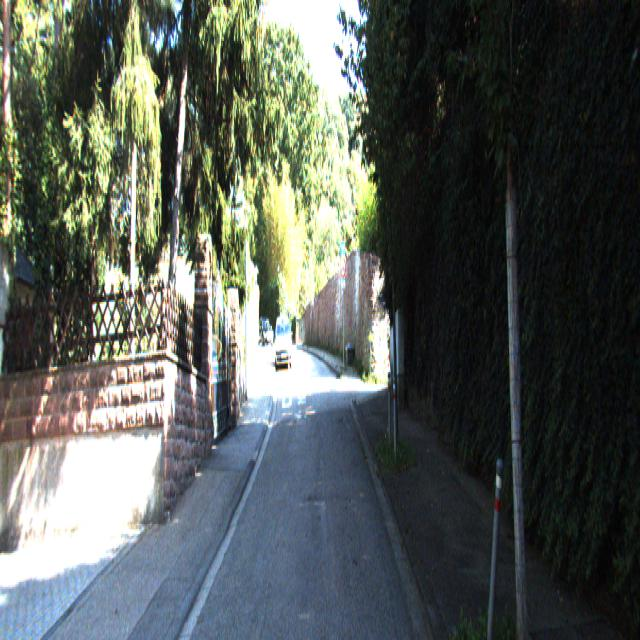Car: (275, 314, 292, 372), (259, 317, 274, 349)
